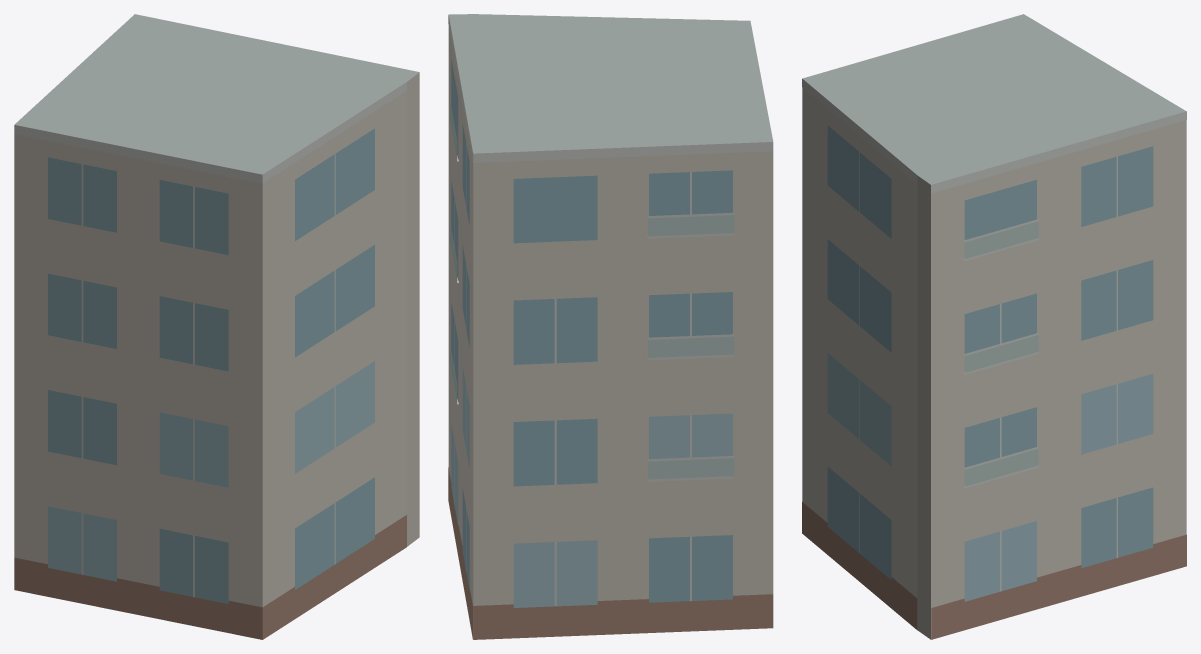
The model's file is survey-upis-32934842.glb.
3 views of the same model, side by side, from view 1: azimuth 30°, elevation 25°; view 2: azimuth 150°, elevation 25°; view 3: azimuth 270°, elevation 25° (orthographic). The views are drawn at different scales.
Visible parts, largest first — view 1: survey-upis-32934842.tmp; view 2: survey-upis-32934842.tmp; view 3: survey-upis-32934842.tmp.
Boxes of the visible parts, bbox=[...] form: survey-upis-32934842.tmp: bbox=[14, 14, 419, 639]; survey-upis-32934842.tmp: bbox=[448, 14, 773, 639]; survey-upis-32934842.tmp: bbox=[802, 14, 1186, 639].
Bounding box in the file's own units: 10.32 × 12.8 × 9.81.
